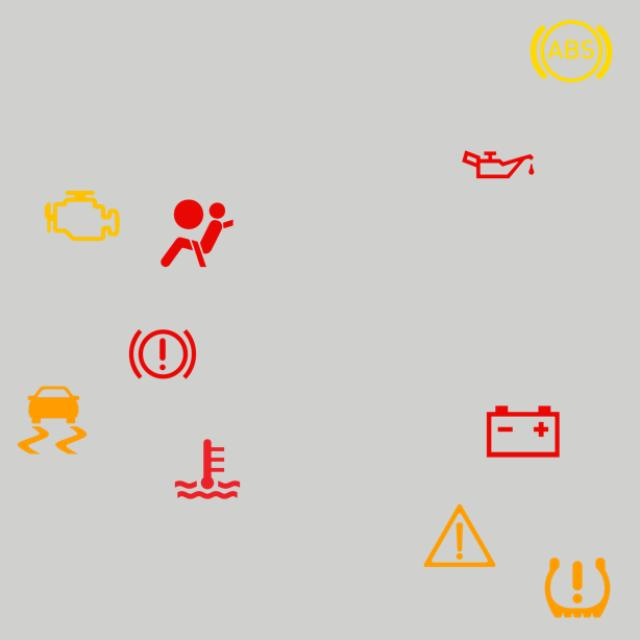Anti Lock Braking System: (526, 6, 616, 96)
Braking System Issue: (118, 310, 208, 400)
Charging System Issue: (478, 386, 568, 476)
Check Engine: (38, 171, 128, 261)
Electronic Stability Problem -ESP-: (7, 375, 97, 465)
Engine Overheating Warning Light: (162, 424, 252, 514)
Low Engine Oil Warning Light: (453, 120, 543, 210)
Low Tire Pressure Warning Light: (532, 543, 622, 633)
Master warning light: (414, 491, 504, 581)
SRS-Airbag: (152, 188, 242, 278)
